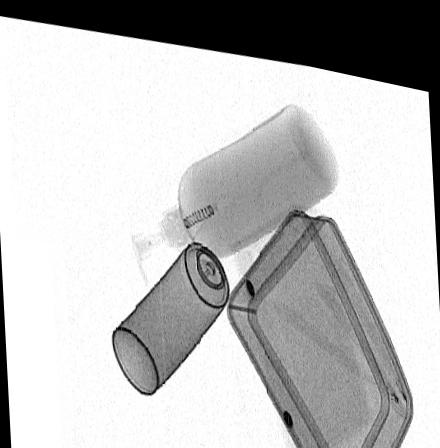Sprayer: (113, 208, 242, 389)
